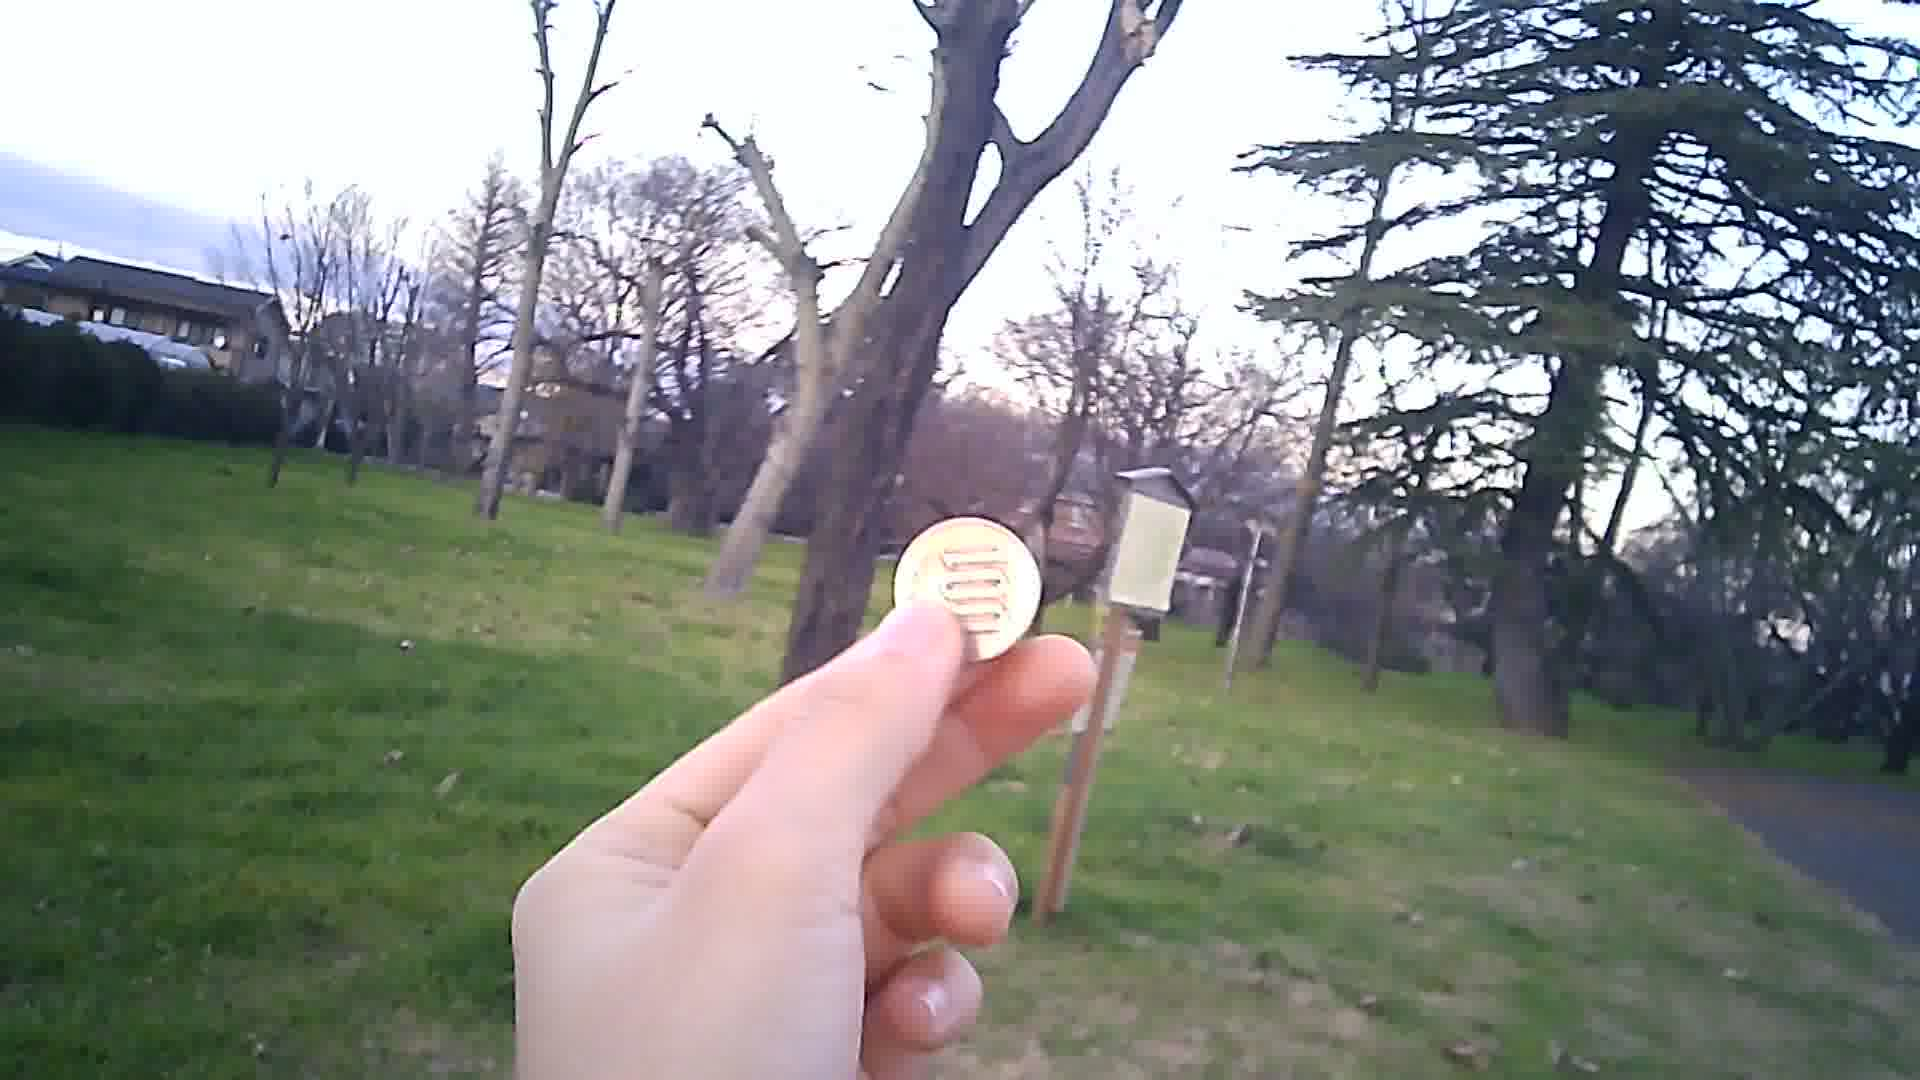100 Yen: (891, 516, 1040, 644)
